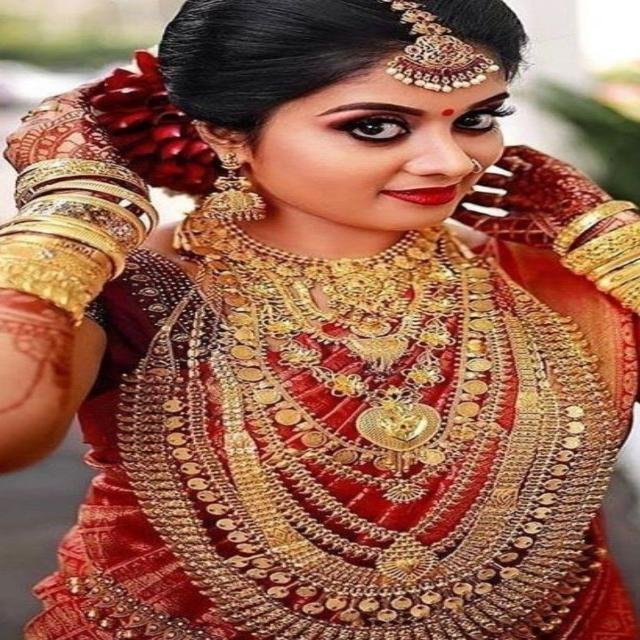Earring: (185, 122, 288, 246)
